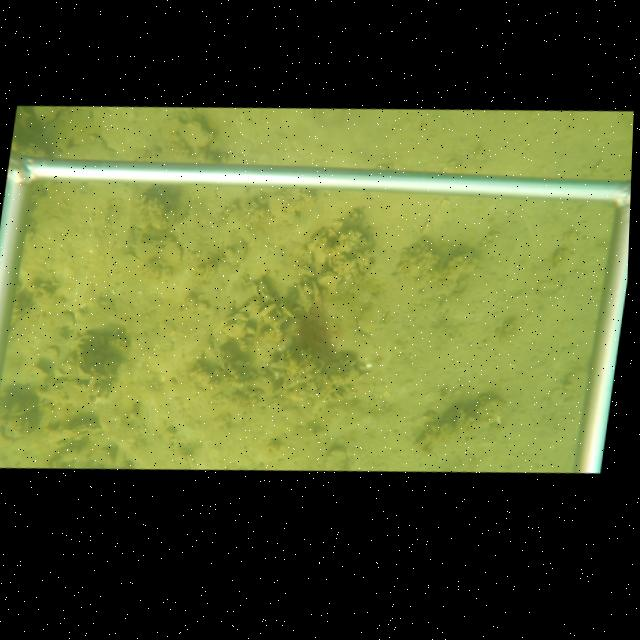Oyster-Closed: (168, 117, 214, 147), (253, 329, 279, 363), (255, 275, 277, 302), (314, 270, 341, 287), (165, 240, 184, 263), (297, 284, 311, 307), (295, 265, 316, 277), (216, 349, 226, 371), (275, 315, 288, 328)
Oyster-Indeterminate: (223, 229, 247, 268)
Oyster-Open: (139, 235, 169, 246)
